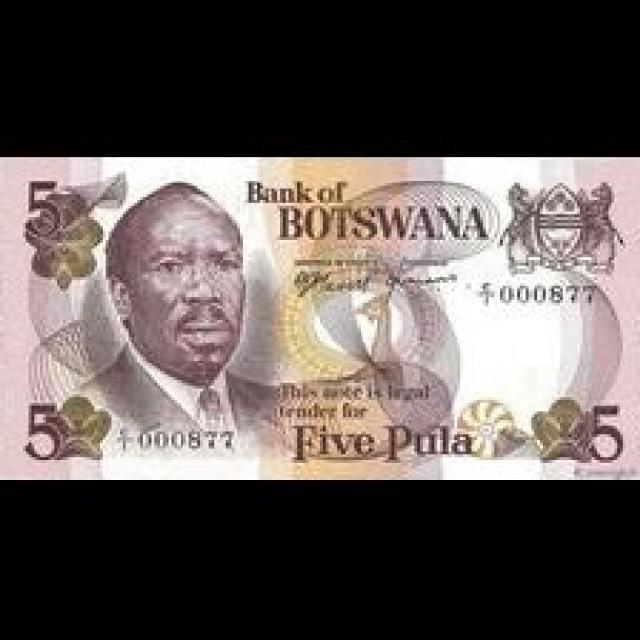banknote: (0, 154, 637, 480)
